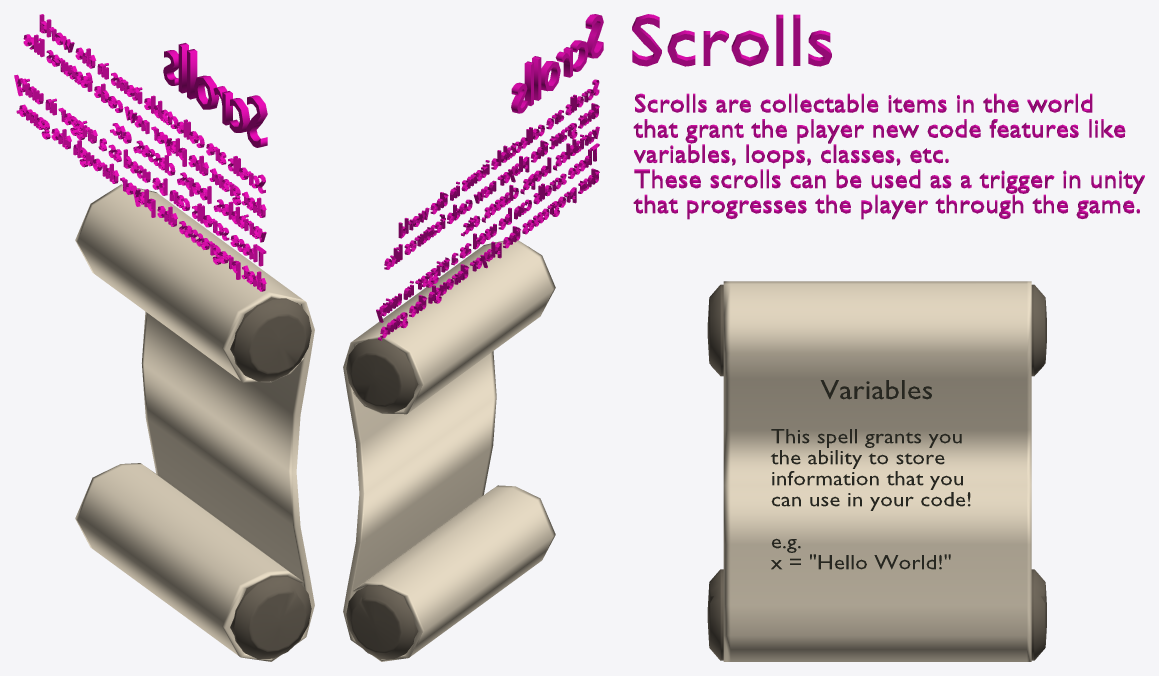
The model's file is SpellBook_tut_Scroll.fbx.
3 views of the same model, side by side, from view 1: azimuth 30°, elevation 25°; view 2: azimuth 150°, elevation 25°; view 3: azimuth 270°, elevation 25° (orthographic). The views are drawn at different scales.
Parts seen in each view (by area): view 1: Text.016; view 2: Text.016; view 3: Text.016.
Boxes of the visible parts, box(x1,y1,x2,y2) form: Text.016: box(14, 14, 314, 661); Text.016: box(343, 14, 603, 661); Text.016: box(632, 14, 1144, 661).
Bounding box in the file's own units: 27.87 × 162 × 121.
